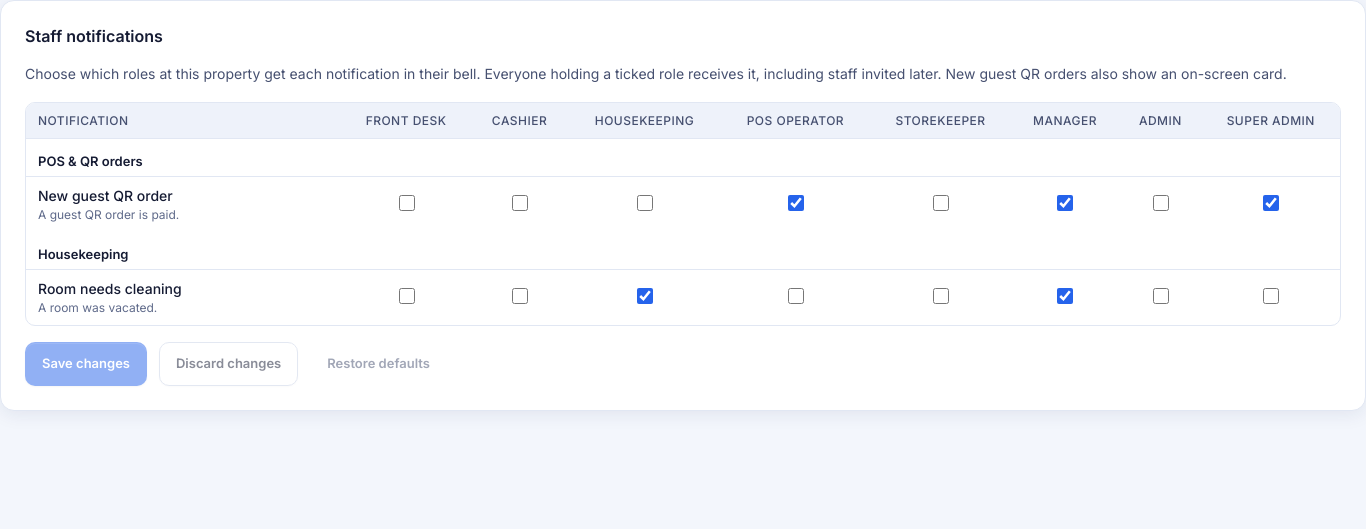
Test case: <NotificationsTab> › saves the full grid and confirms
Expected: the button "Save changes" is disabled, 25,342 -> 147,386
Click the checkbox named "Room needs cleaning: Front desk": x=406, y=296 398,288 -> 414,304
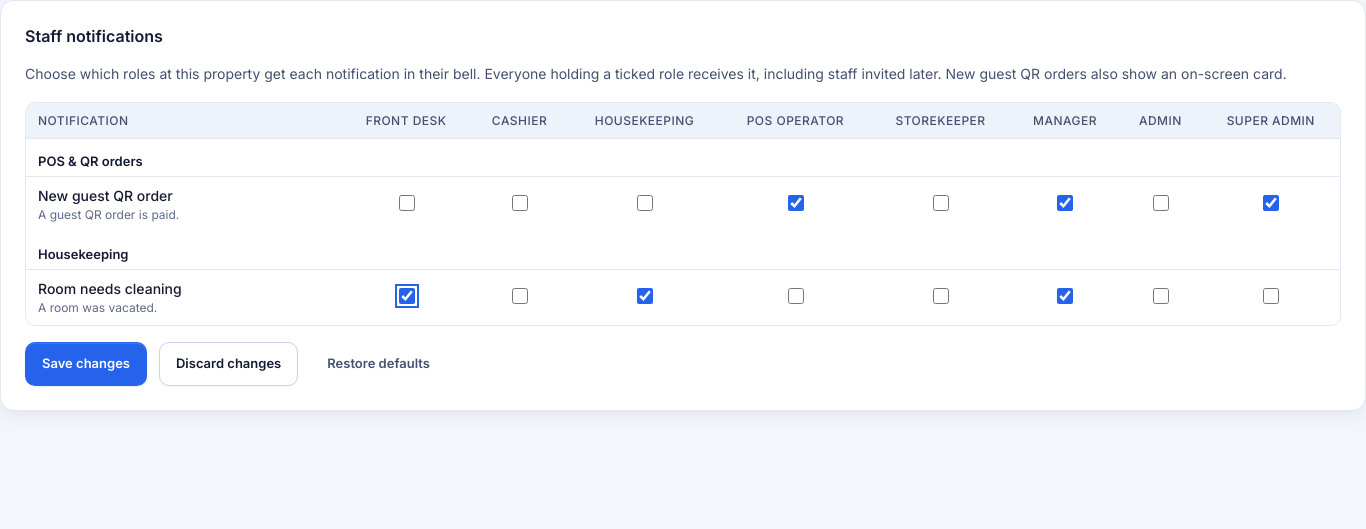
Click the button "Save changes": x=86, y=364 25,342 -> 147,386
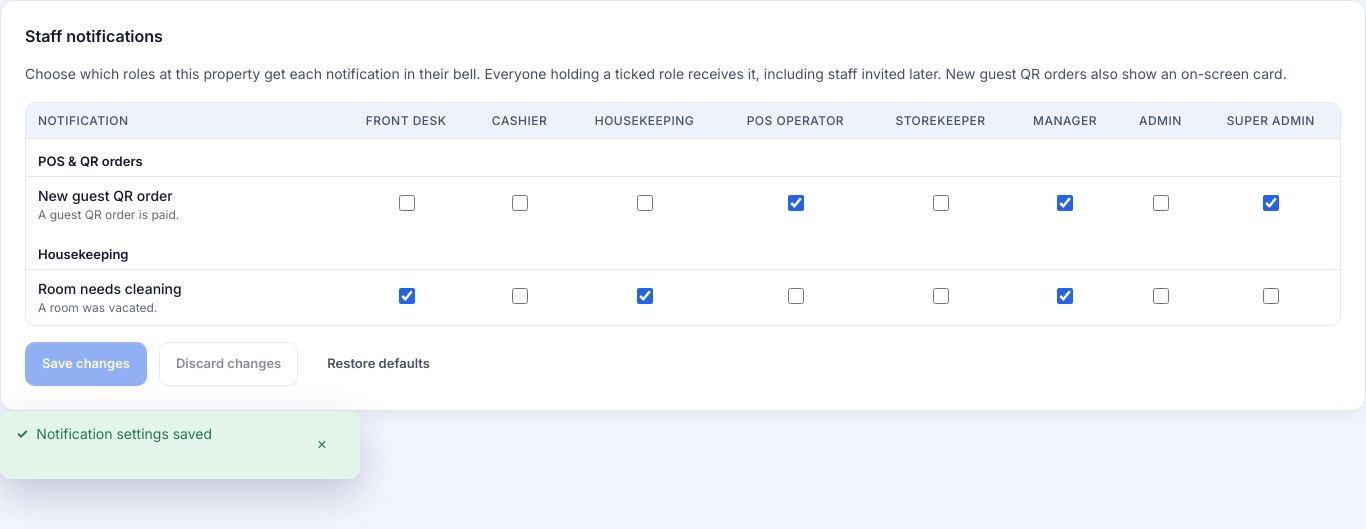
Expected: the text "Notification settings saved" is shown, 36,425 -> 212,442
Expected: the button "Save changes" is disabled, 25,342 -> 147,386
